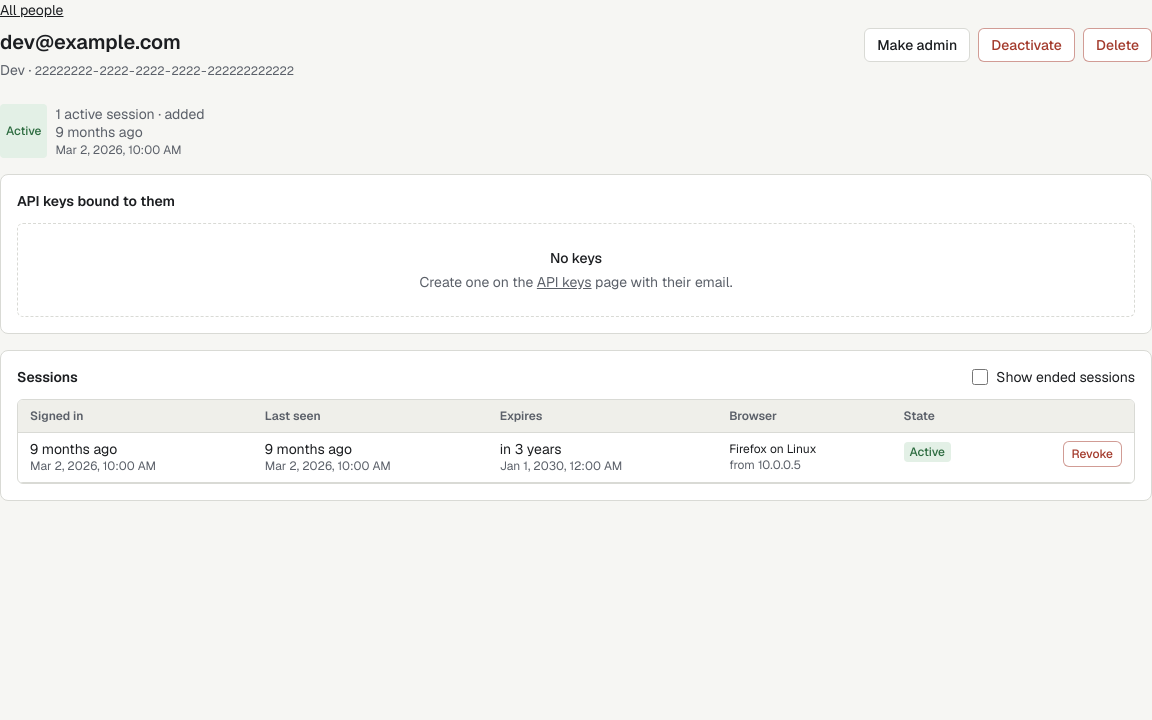
Scenario: destructive actions ask first › revoking a session says whose and where
Expected: the text "Firefox on Linux" is shown, x1=729 y1=440 x2=816 y2=456
Click the button "Revoke" at x=1092, y=454, box x1=1062 y1=440 x2=1122 y2=466
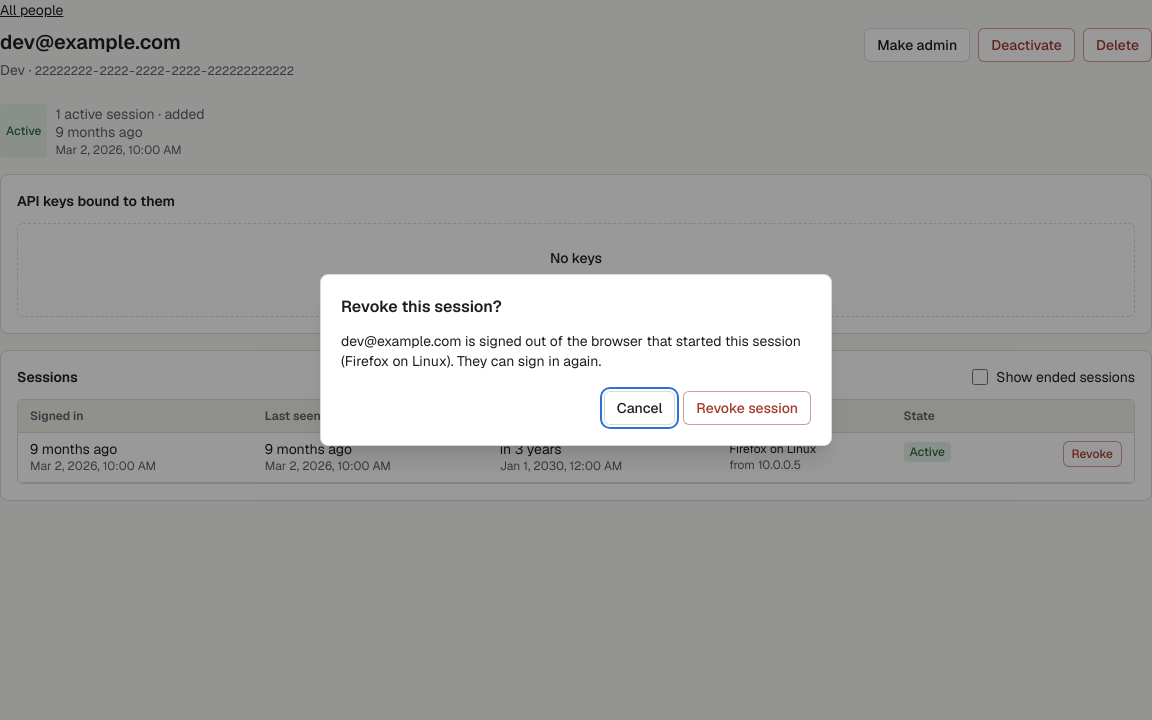
Click the button "Cancel" at x=640, y=408, box x1=604 y1=391 x2=675 y2=425
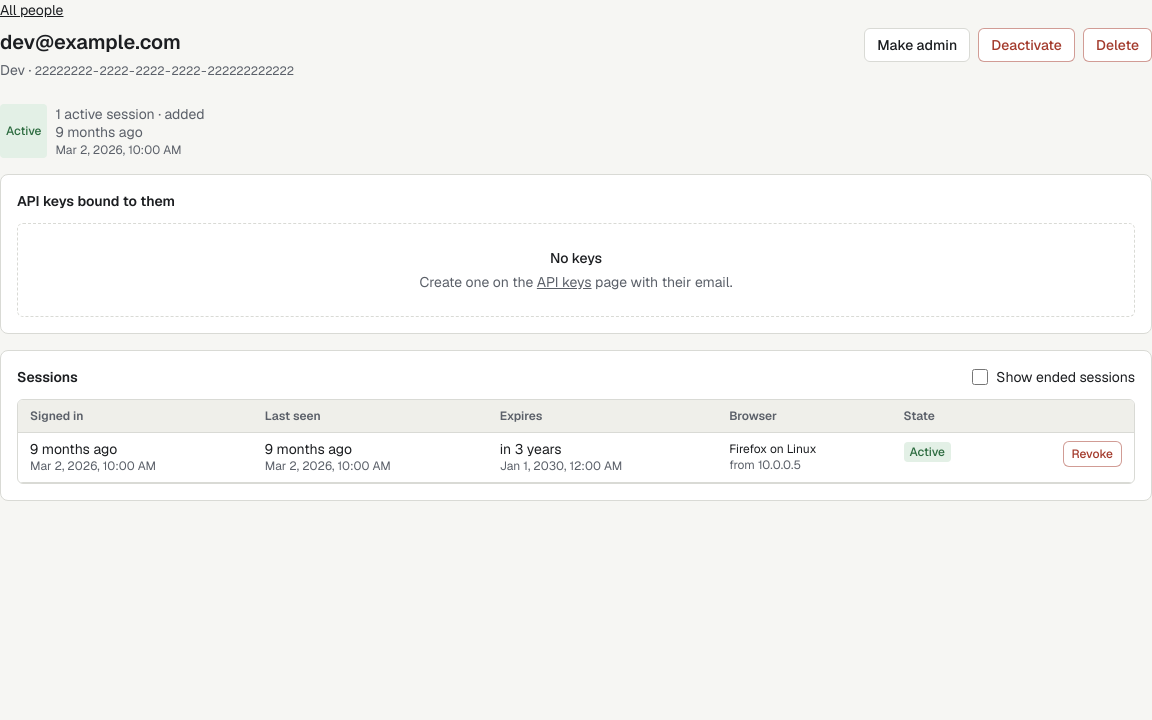
Expected: the dialog is gone
Click the button "Revoke" at x=1092, y=454, box x1=1062 y1=440 x2=1122 y2=466
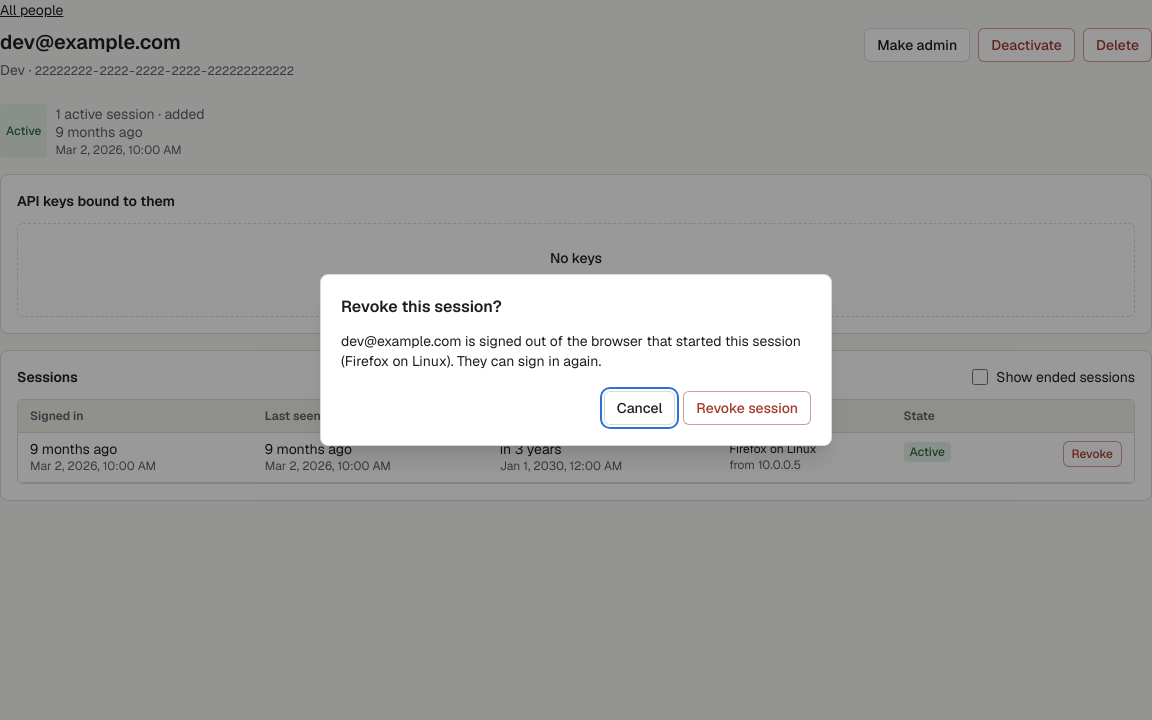
Click the button "Revoke session" at x=747, y=408, box x1=683 y1=391 x2=811 y2=425
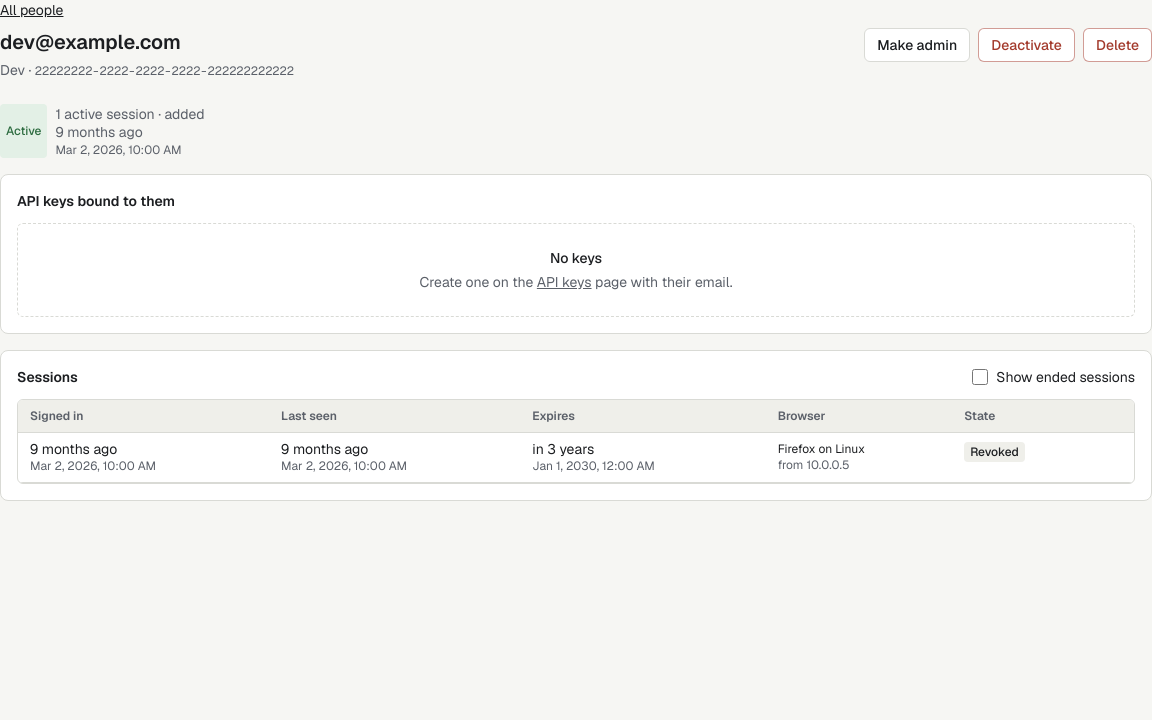
Expected: the dialog is gone
